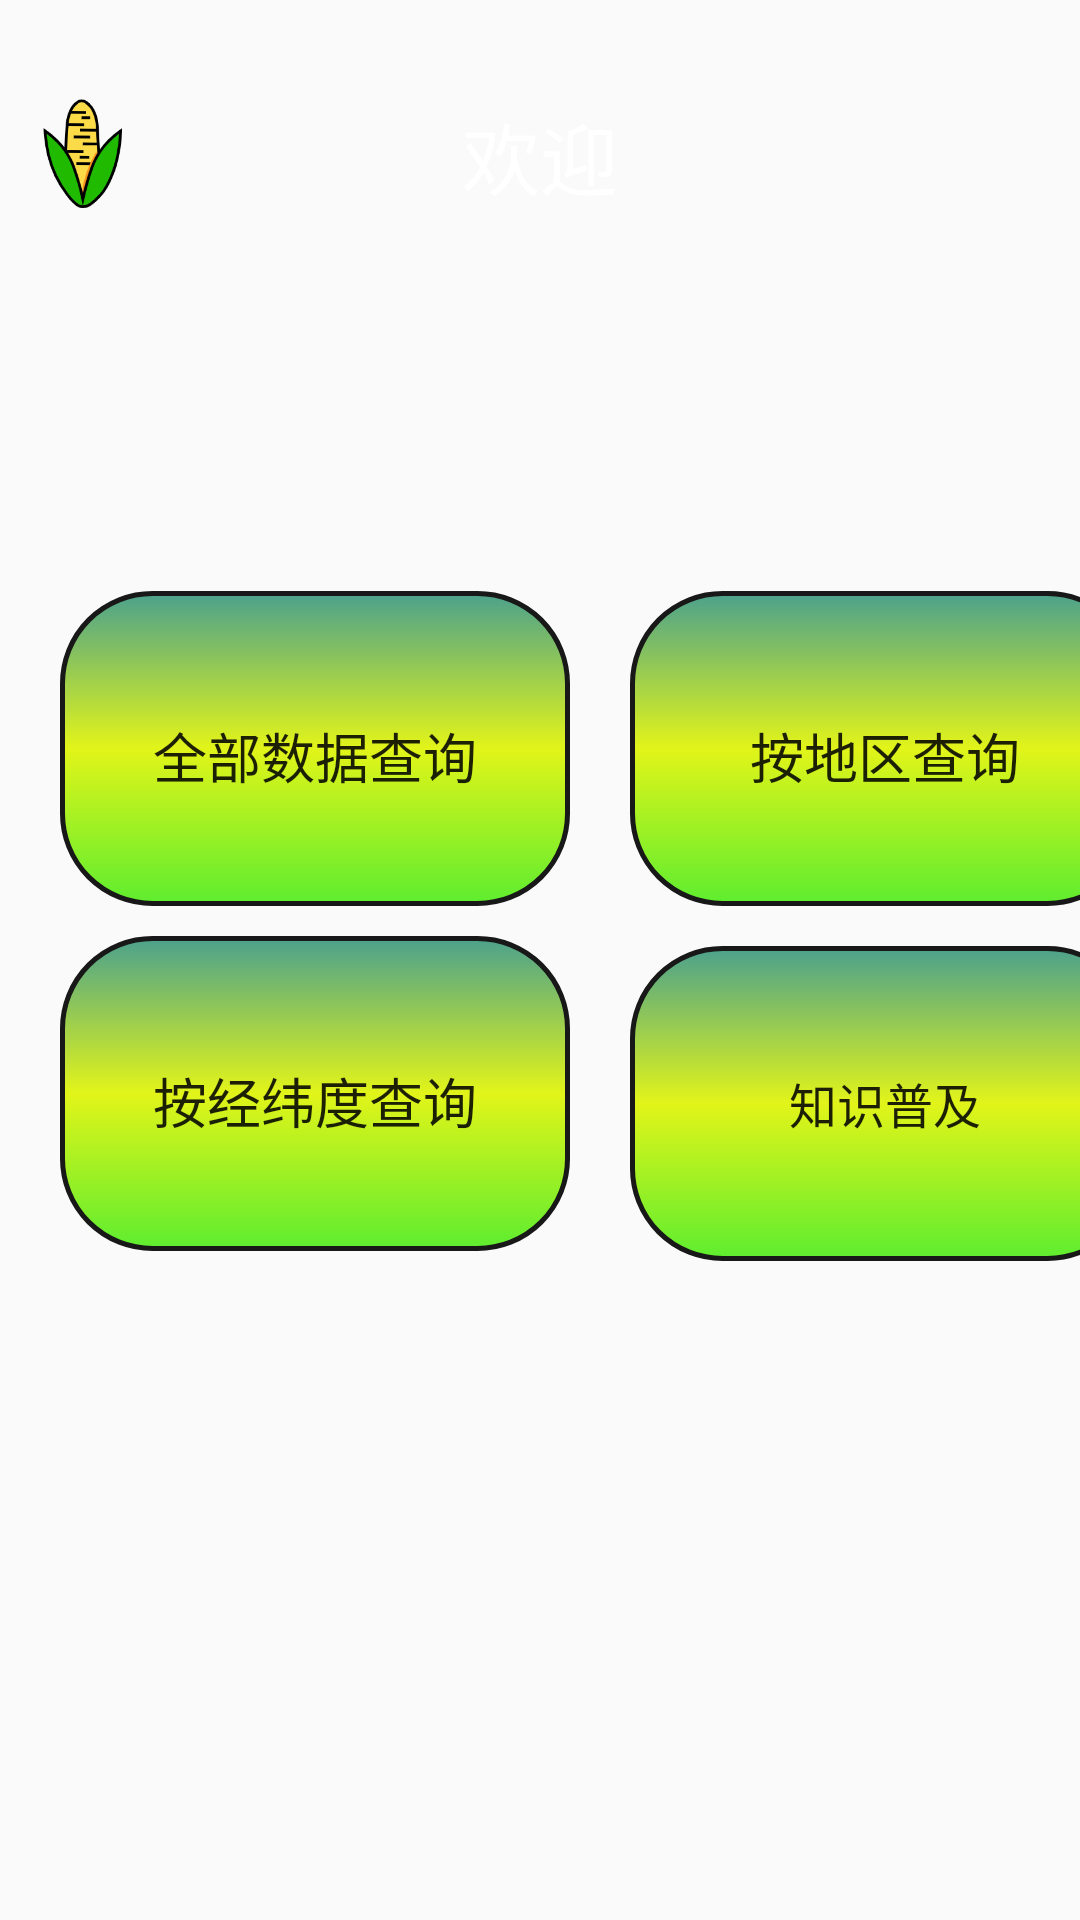

Where icons sit on this 1080w x 1920h app screen, as (x1, y1, x2, y2):
yumi: (43, 99, 122, 208)
